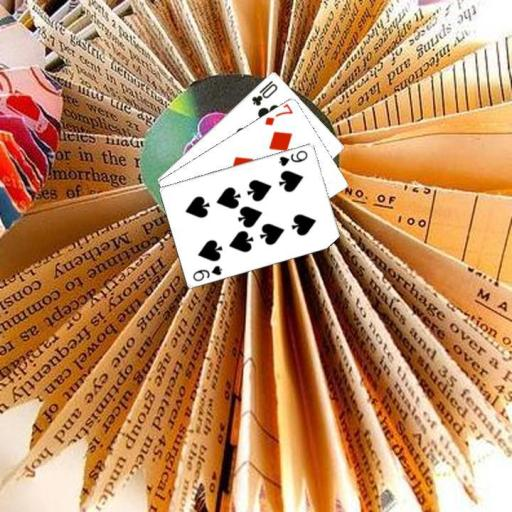10C: (248, 77, 280, 107)
7D: (261, 102, 294, 127)
9S: (276, 147, 310, 167), (190, 262, 223, 282)
